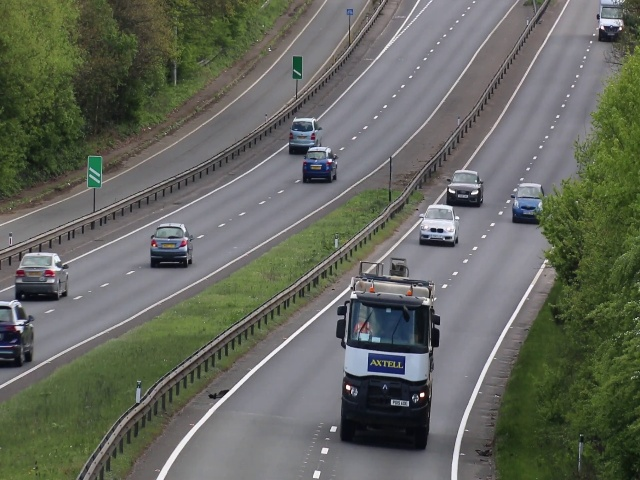car: (335, 287, 437, 454), (15, 252, 68, 303), (146, 222, 196, 269), (1, 297, 33, 368), (417, 204, 458, 246), (447, 167, 483, 209), (512, 180, 544, 225), (289, 114, 323, 154), (301, 146, 337, 183)
